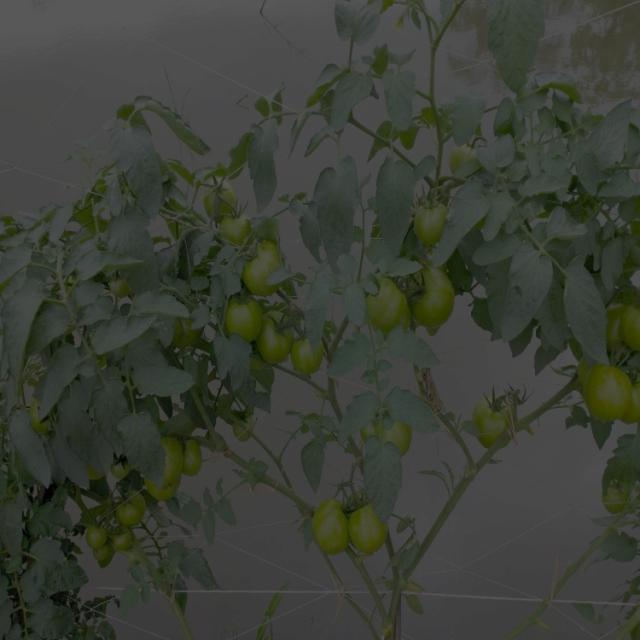tomato: (407, 268, 463, 340), (583, 362, 639, 423), (365, 275, 410, 337), (312, 495, 357, 557), (351, 502, 397, 562), (242, 237, 291, 292), (476, 398, 523, 448), (219, 290, 266, 340), (255, 309, 293, 368), (286, 326, 324, 376), (117, 486, 154, 526), (598, 483, 635, 520), (418, 200, 453, 239), (177, 442, 207, 487), (612, 304, 640, 352), (163, 440, 184, 495), (206, 188, 242, 218), (92, 541, 122, 574), (383, 420, 418, 448), (223, 213, 254, 243), (445, 144, 481, 167), (104, 276, 130, 301), (105, 522, 137, 542), (85, 522, 108, 549)
